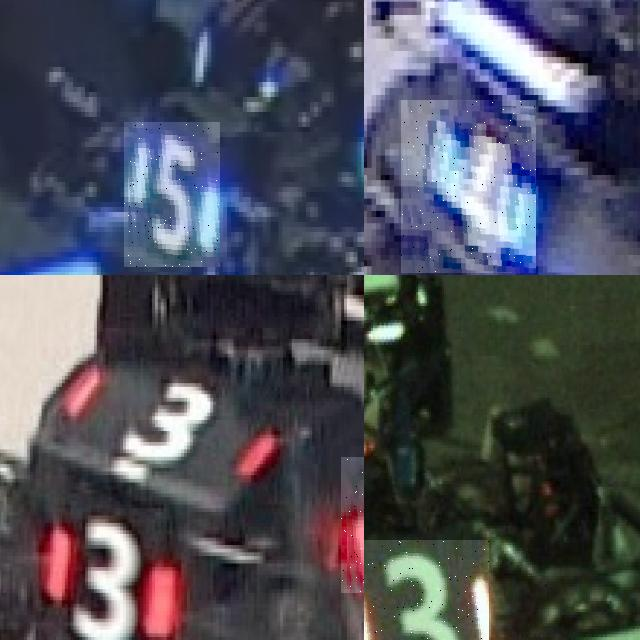B4: (401, 100, 536, 273)
B5: (124, 122, 220, 267)
R3: (38, 515, 181, 640), (364, 540, 489, 640), (341, 457, 364, 593)
